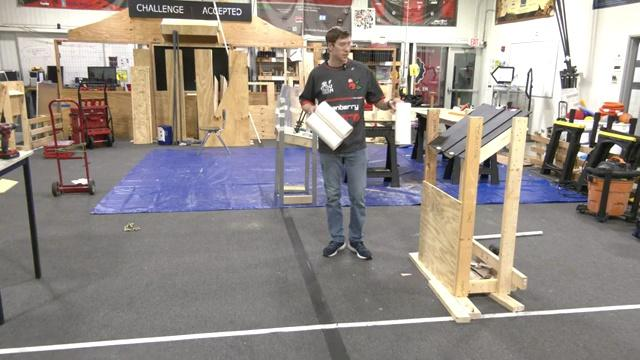CORAL: (315, 102, 354, 139), (306, 111, 342, 150), (395, 103, 411, 145)
